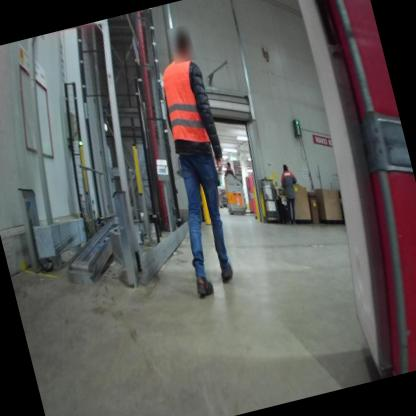pallet_truck: (217, 164, 255, 223)
